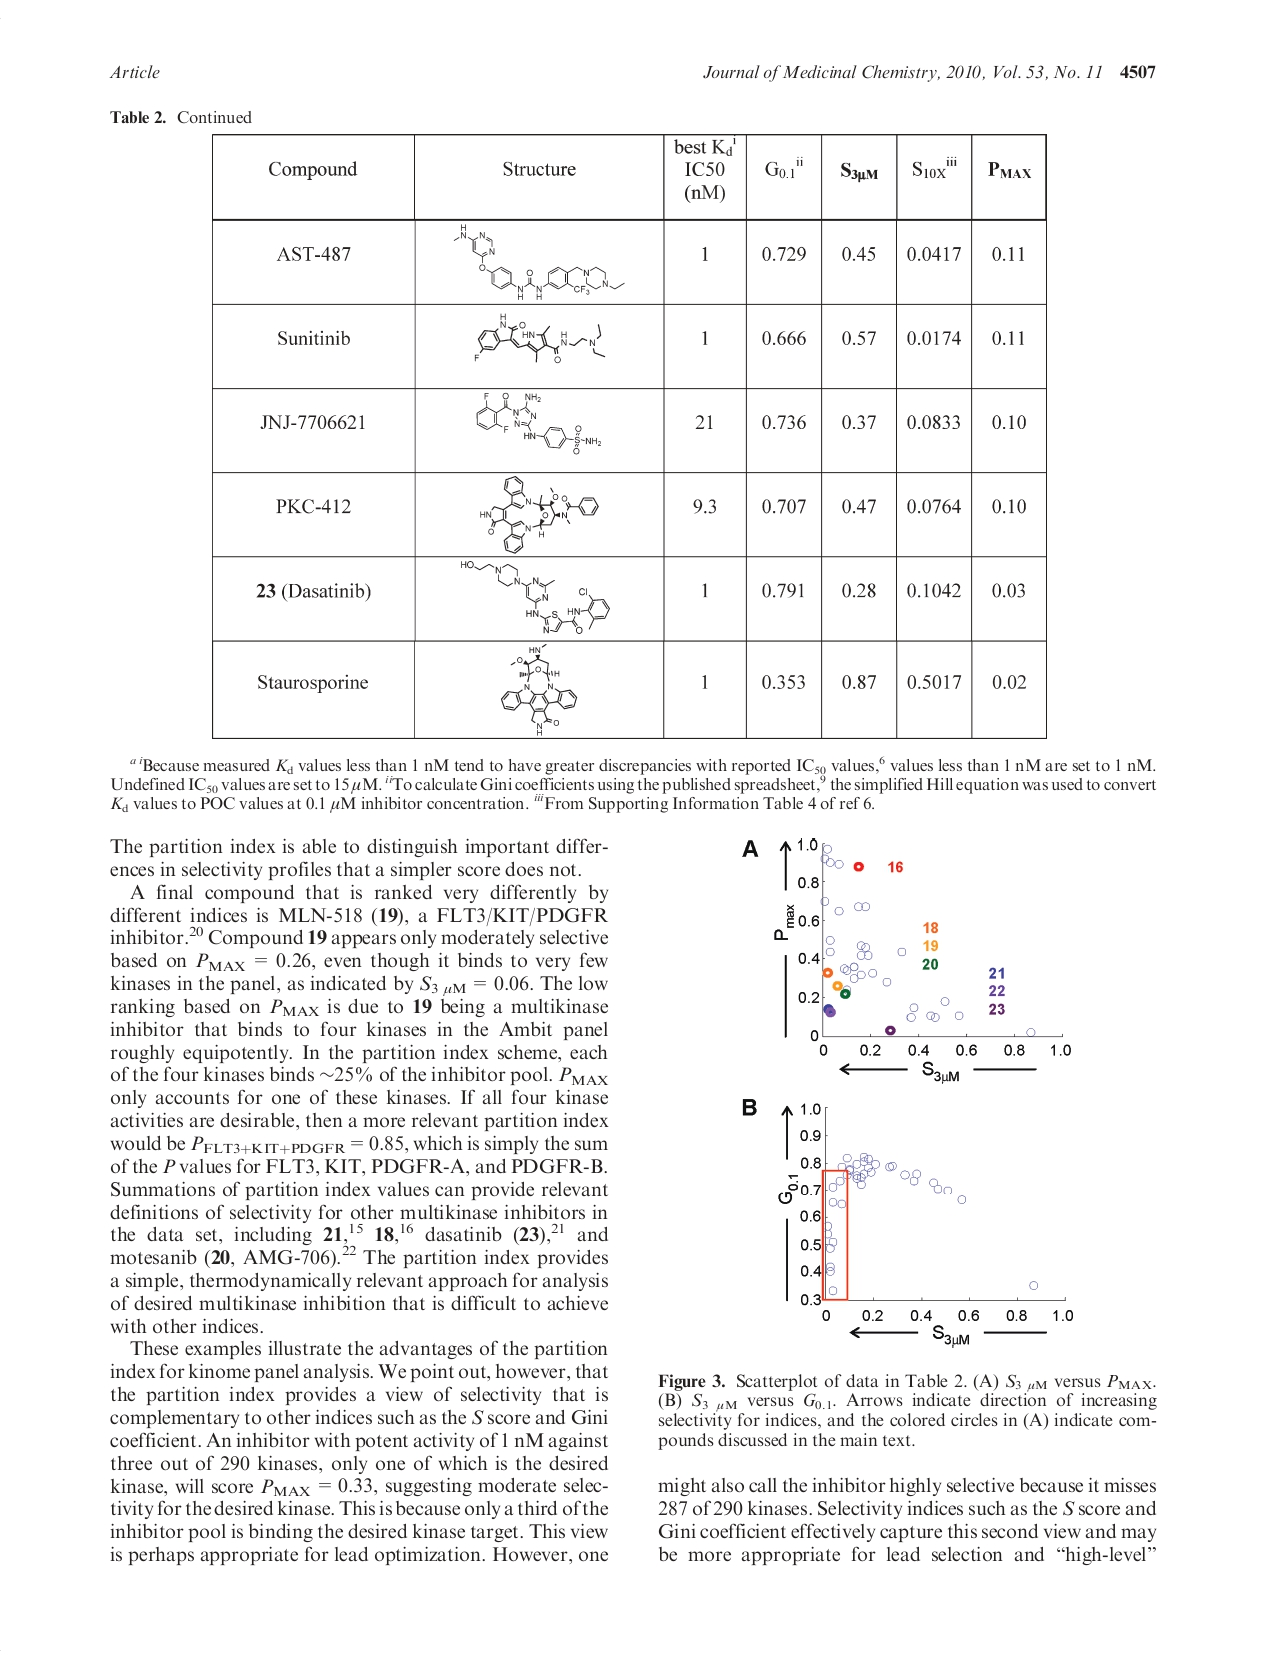exist_molecular: (452, 222, 626, 301), (459, 559, 609, 634), (477, 473, 598, 553), (473, 391, 604, 455), (497, 642, 578, 735), (473, 313, 608, 367)
